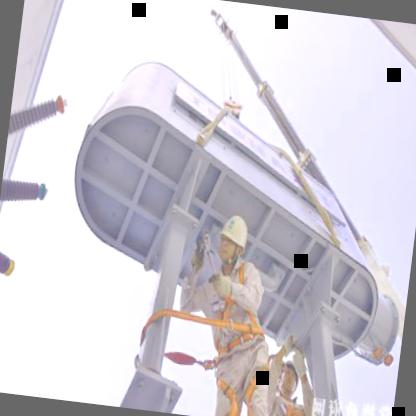helmet: (214, 210, 252, 271), (272, 353, 306, 400)
